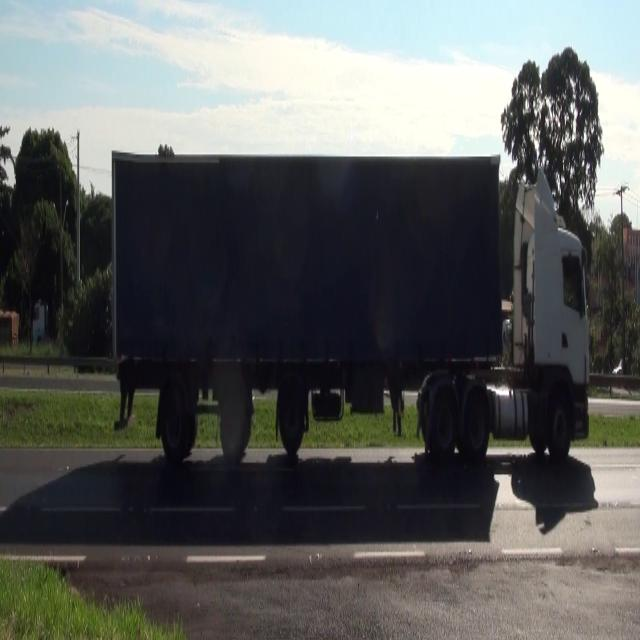-axle: (219, 375, 251, 467), (278, 372, 308, 461), (428, 378, 458, 467), (461, 378, 489, 468), (162, 380, 191, 460), (548, 386, 574, 469)
